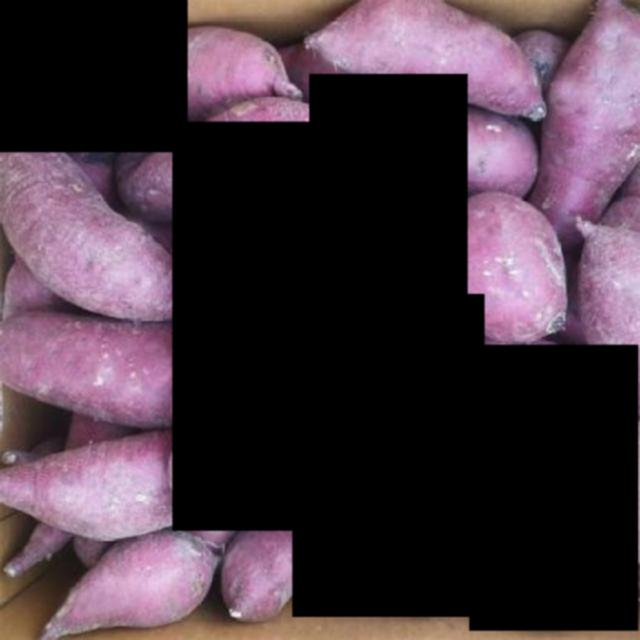Sweet_Potato: (292, 294, 485, 618), (172, 122, 316, 530), (470, 344, 639, 631), (309, 74, 468, 346), (0, 0, 187, 152)
